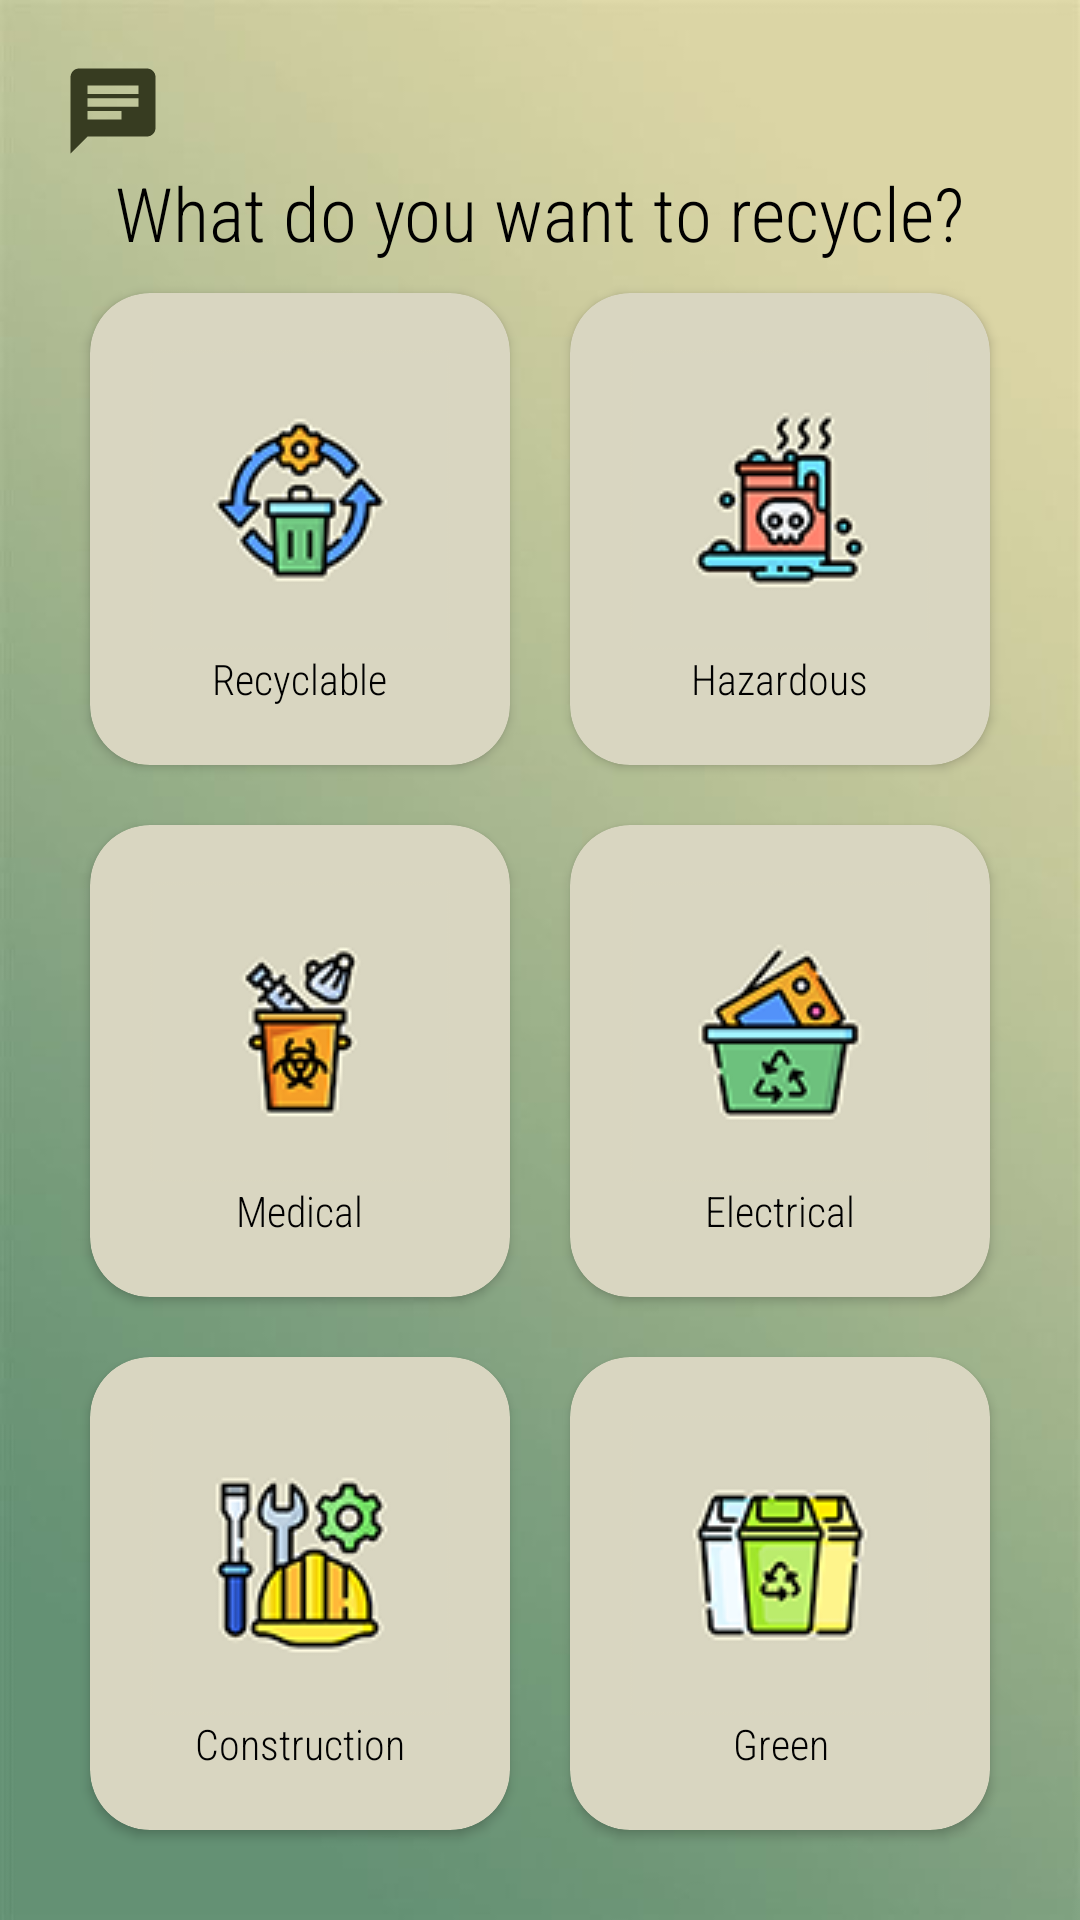

Locate icon controls on the screen. Image size 1080x1920, boxes as (x1, y1, x2, y2).
chat: (70, 68, 156, 154)
ewaste: (699, 946, 861, 1119)
